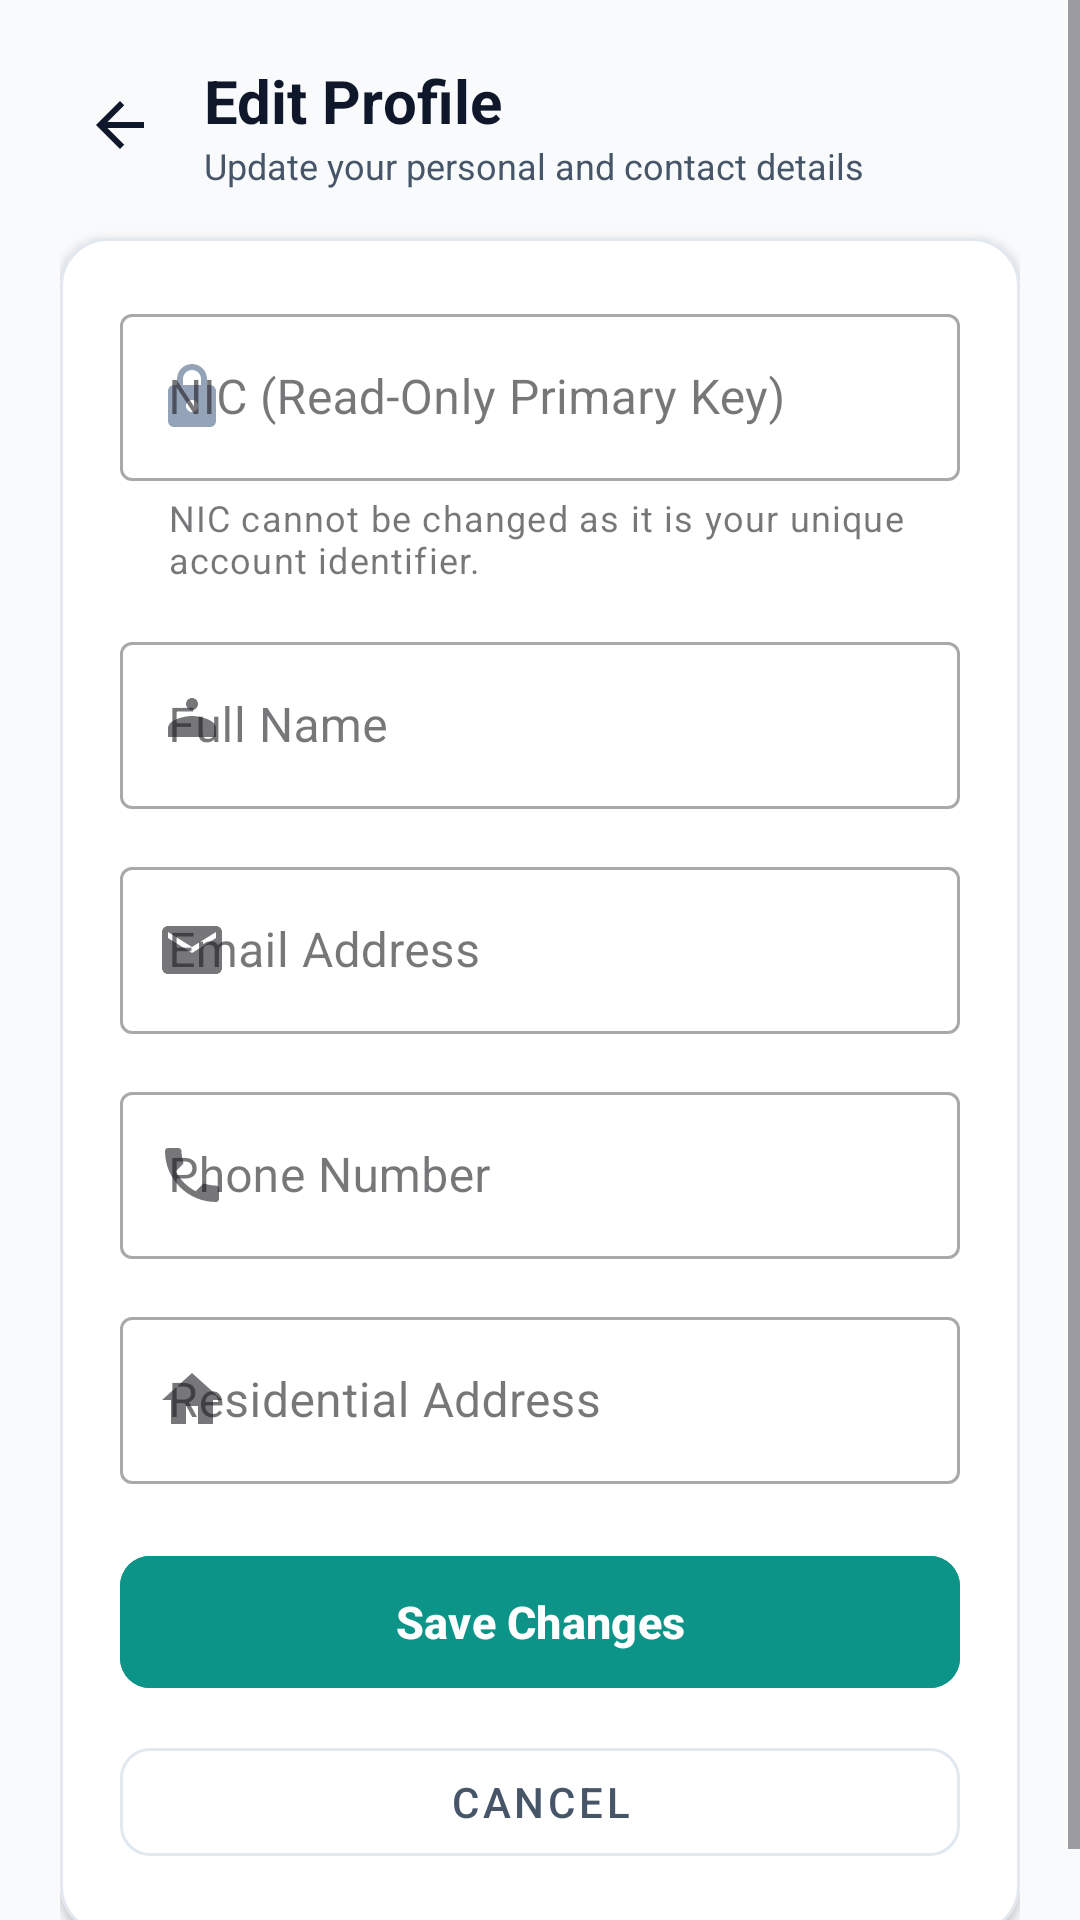

Icons on this 1080 x 1920 Android screen, each with its box as bbox(x1, y1, x2, y2):
Back: bbox(96, 101, 144, 149)
